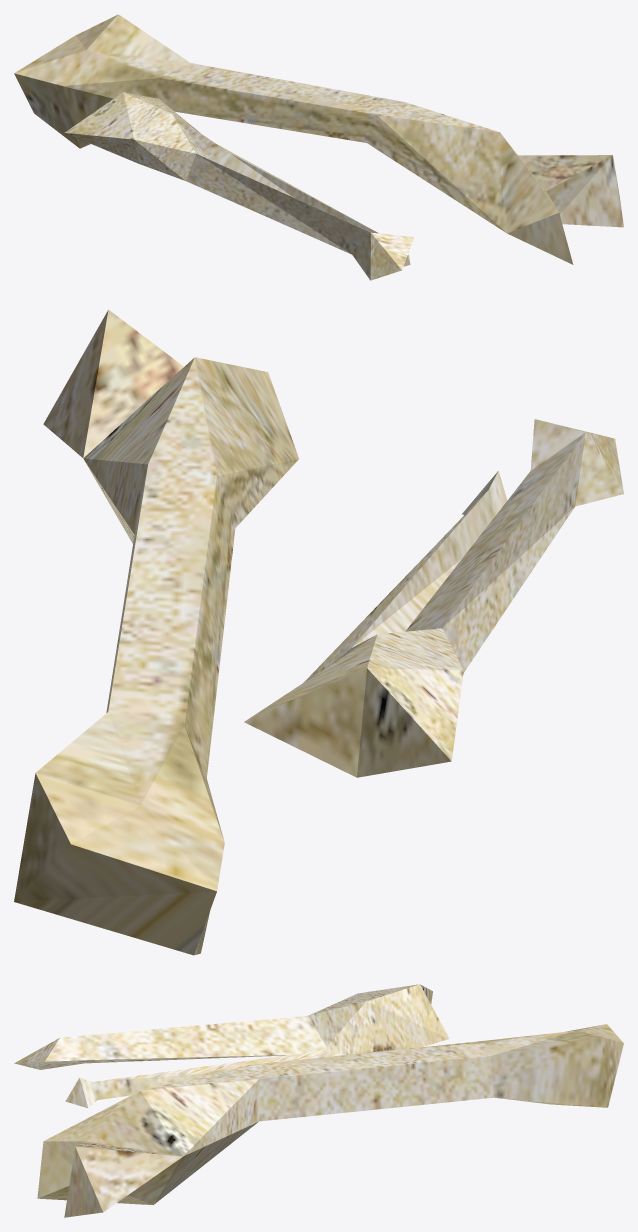
The model's file is poi_tato_skel_krayt_leg_s01_l1.fbx.
3 renders of one model, top to bottom at view 1: azimuth 30°, elevation 25°; view 2: azimuth 150°, elevation 25°; view 3: azimuth 270°, elevation 25°, orthographic. The views are drawn at different scales.
Visible parts, largest first — view 1: mesh_node; view 2: mesh_node; view 3: mesh_node.
Boxes of the visible parts, left/top/right/bottom form: mesh_node: left=14, top=14, right=623, bottom=280; mesh_node: left=14, top=309, right=623, bottom=955; mesh_node: left=14, top=984, right=623, bottom=1217.
Bounding box in the file's own units: 3.67 × 1.06 × 5.07.
2 materials, 2 textured.
